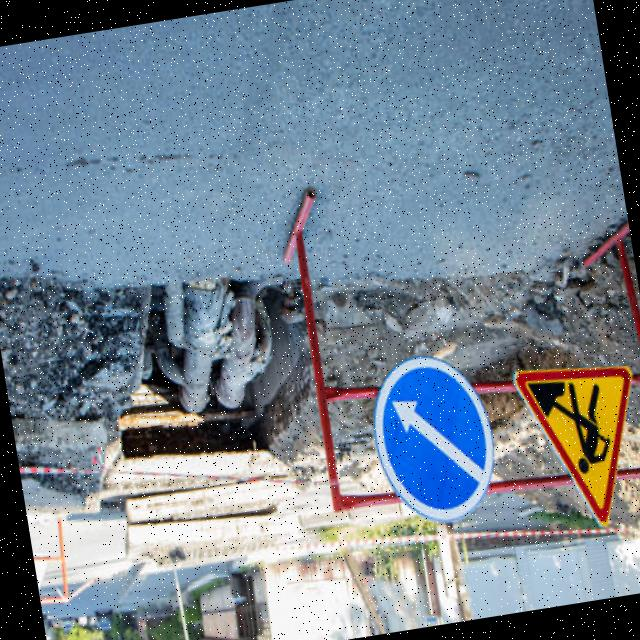road_work: (511, 347, 640, 538)
